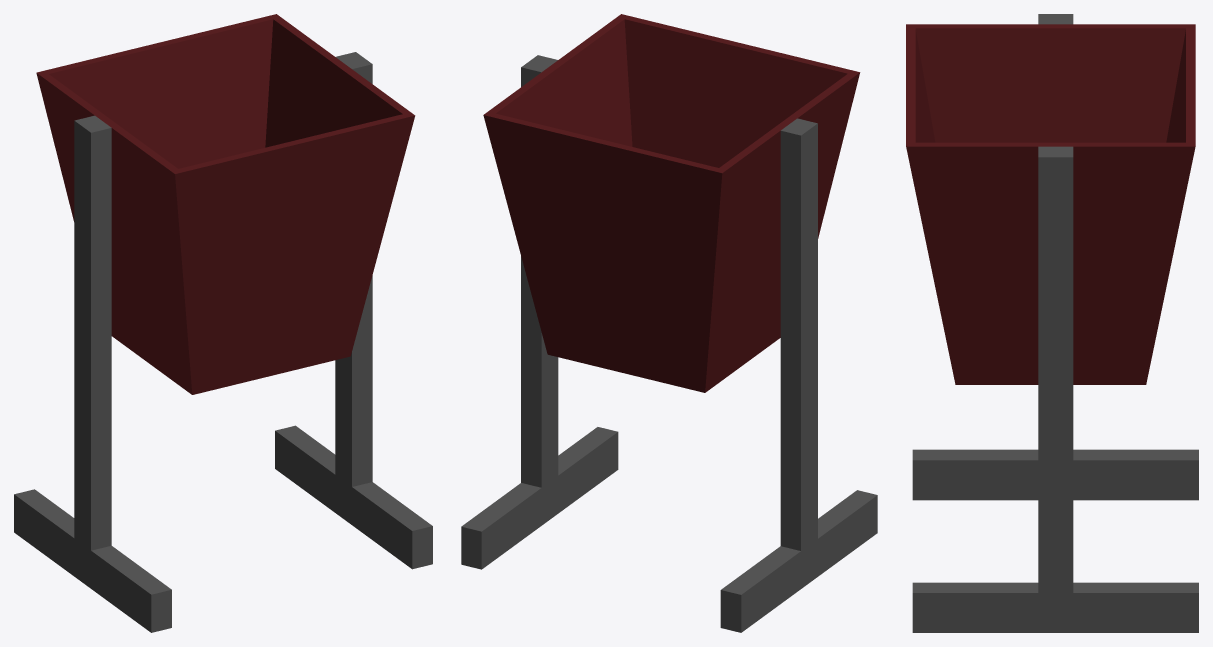
File: ЖД вокзал урна.fbx
The picture shows the model from 3 angles, left to right: view 1: azimuth 30°, elevation 25°; view 2: azimuth 150°, elevation 25°; view 3: azimuth 270°, elevation 25°; orthographic projection. The views are drawn at different scales.
Visible parts, largest first — view 1: Cube.058; view 2: Cube.058; view 3: Cube.058.
Part boxes in pixels (x1,y1,x2,y2): Cube.058: [14, 14, 432, 632]; Cube.058: [461, 14, 877, 632]; Cube.058: [906, 14, 1198, 632].
Size of the model in its own units: 83.2 by 129 by 71.83.
